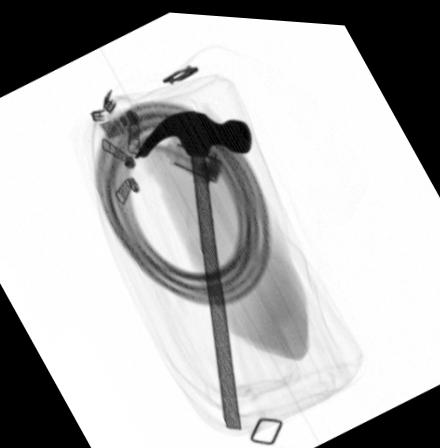Hammer: (133, 106, 252, 426)
